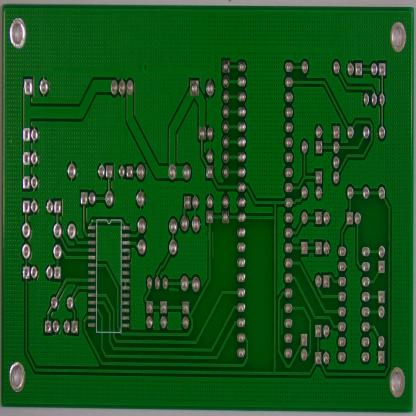spurious_copper: (210, 228, 216, 259), (280, 305, 284, 338), (168, 286, 180, 294)
